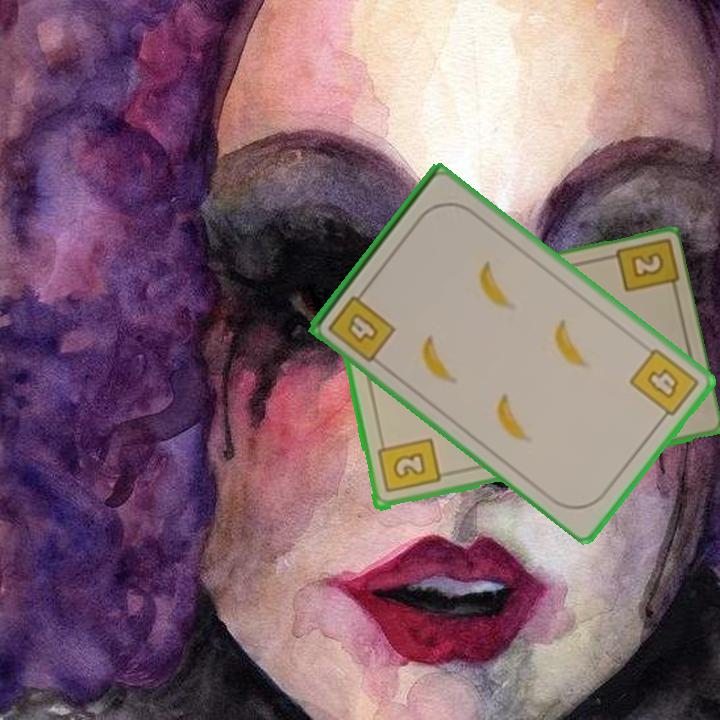2b: (373, 435, 443, 496), (627, 249, 667, 282)
4b: (626, 344, 702, 426), (324, 283, 399, 365)
